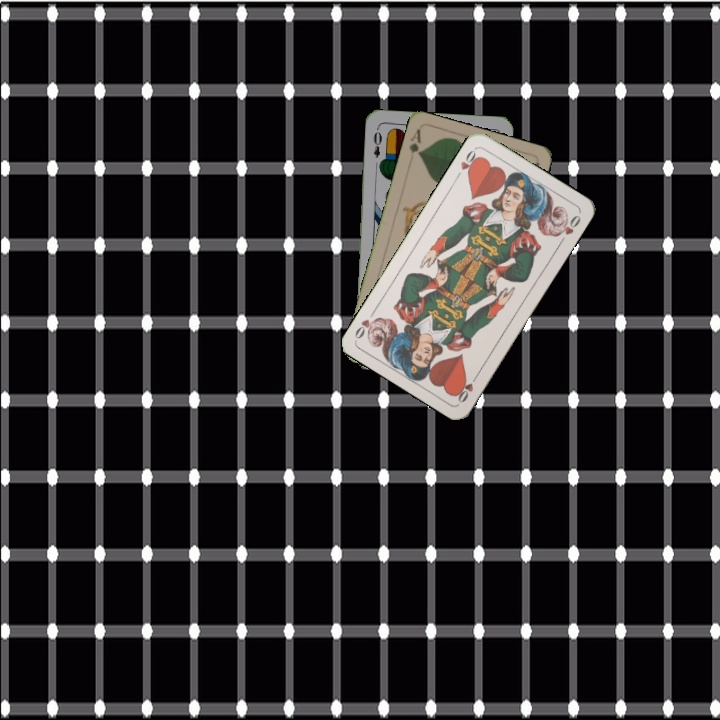EO: (369, 124, 384, 160)
GA: (405, 125, 424, 159)
HO: (452, 145, 482, 181), (453, 369, 481, 405)
